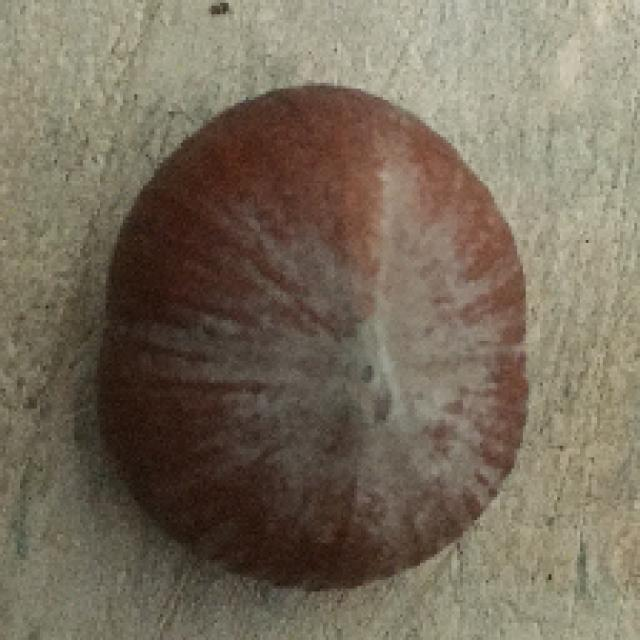qualityHazelnut: (88, 78, 545, 600)
